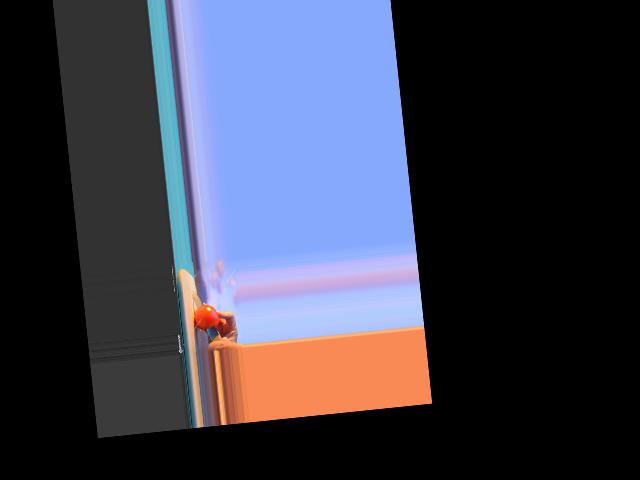tomato: (192, 303, 219, 331)
